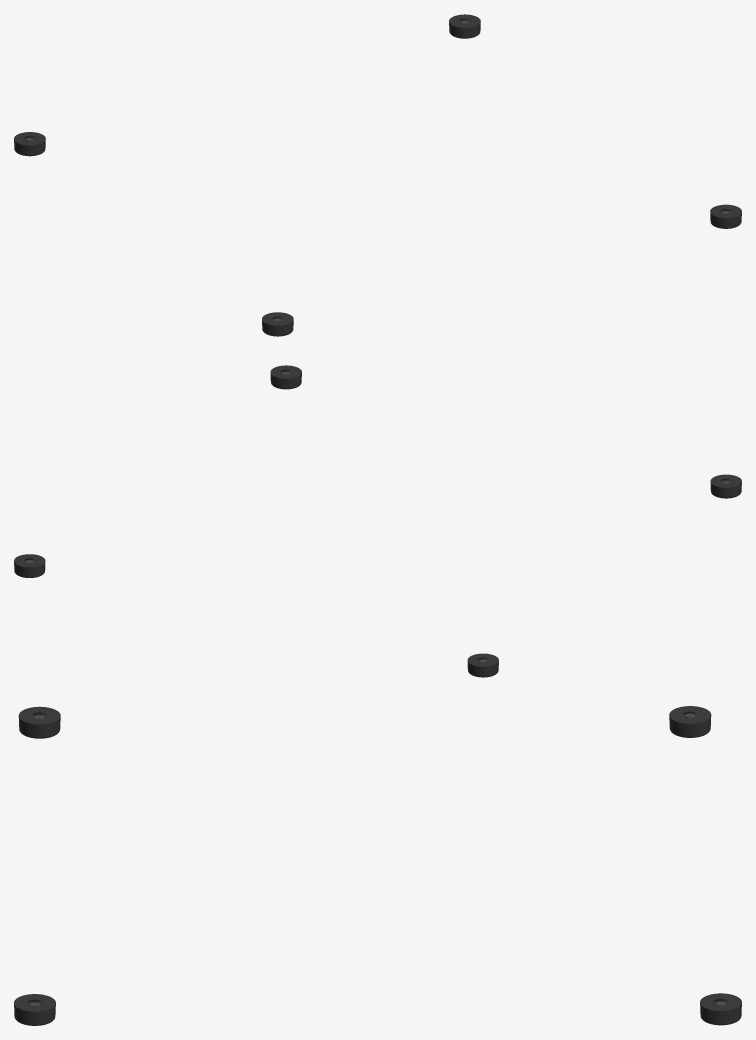
Rendered from feet.glb.
3 renders of one model, top to bottom at view 1: azimuth 30°, elevation 25°; view 2: azimuth 150°, elevation 25°; view 3: azimuth 270°, elevation 25°, orthographic. The views are drawn at different scales.
Parts seen in each view (by area): view 1: Ensemble-Lantern.003; view 2: Ensemble-Lantern.003; view 3: Ensemble-Lantern.003.
Part boxes in pixels (x1,y1,x2,y2): Ensemble-Lantern.003: [14, 14, 741, 336]; Ensemble-Lantern.003: [14, 365, 741, 677]; Ensemble-Lantern.003: [14, 706, 741, 1025].
Bounding box in the file's own units: 69.86 × 1.76 × 70.3.
Materials: 2 (1 with a texture image).
